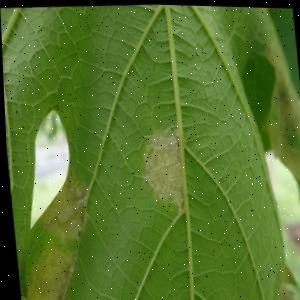Folha: (0, 0, 300, 300)
Fungo: (257, 31, 300, 174), (136, 123, 184, 213), (13, 241, 82, 300), (42, 179, 91, 240)
